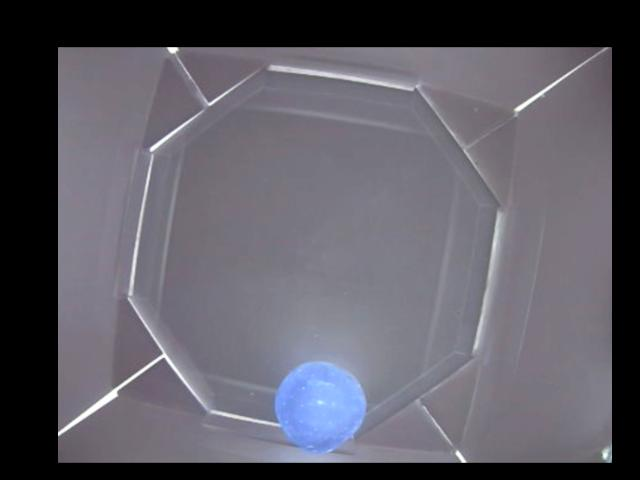Potato: (276, 360, 361, 455)
